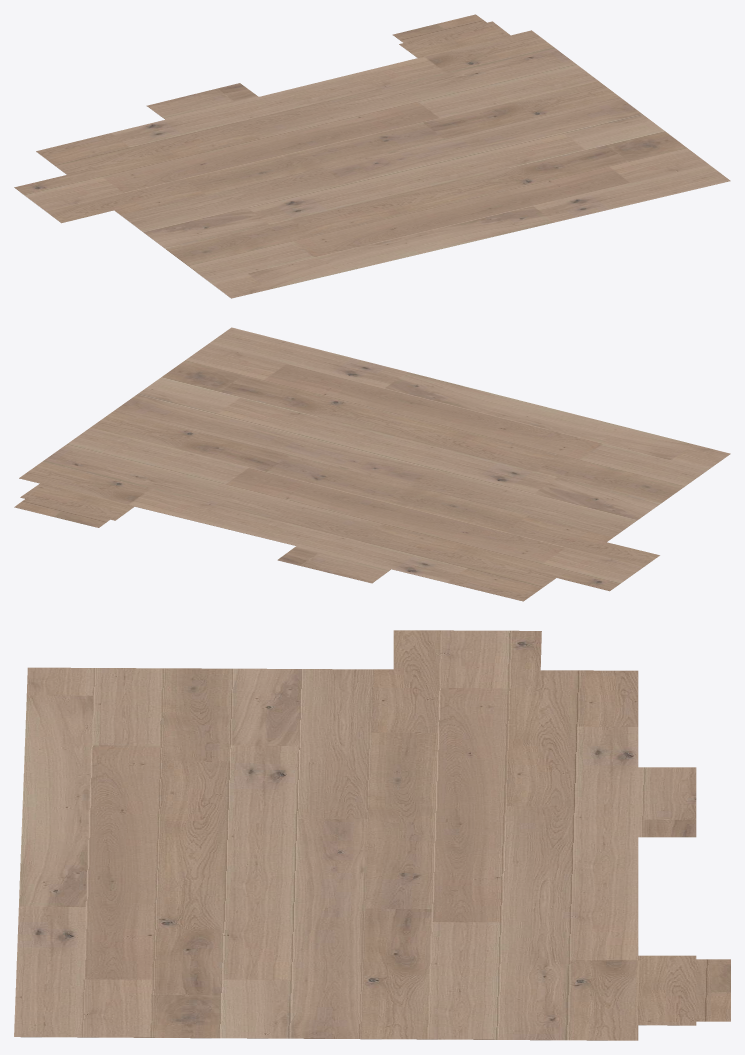
The model's file is pavimentoIngresso.glb.
3 renders of one model, top to bottom at view 1: azimuth 30°, elevation 25°; view 2: azimuth 150°, elevation 25°; view 3: azimuth 270°, elevation 25°, orthographic. The views are drawn at different scales.
Visible parts, largest first — view 1: PavimentoIngresso; view 2: PavimentoIngresso; view 3: PavimentoIngresso.
Part boxes in pixels (x1,y1,x2,y2): PavimentoIngresso: [14, 14, 730, 298]; PavimentoIngresso: [14, 327, 730, 601]; PavimentoIngresso: [14, 630, 730, 1040].
Size of the model in its own units: 7.01 by 0.001 by 5.18.
Materials: 1 (1 with a texture image).
